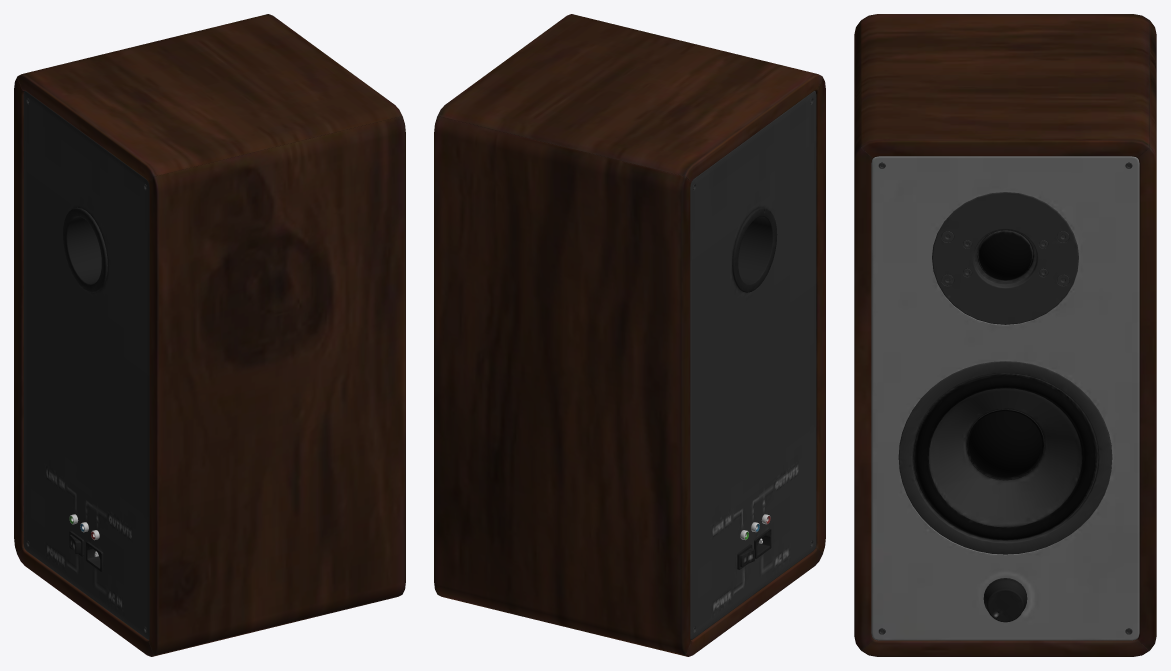
Rendered from caixas-madeira.glb.
3 renders of one model, left to right at view 1: azimuth 30°, elevation 25°; view 2: azimuth 150°, elevation 25°; view 3: azimuth 270°, elevation 25°, orthographic. The views are drawn at different scales.
Parts seen in each view (by area): view 1: MESH_Desktop_speaker_Material.008_0; view 2: MESH_Desktop_speaker_Material.008_0; view 3: MESH_Desktop_speaker_Material.008_0.
Part boxes in pixels (x1,y1,x2,y2): MESH_Desktop_speaker_Material.008_0: [14, 14, 405, 656]; MESH_Desktop_speaker_Material.008_0: [434, 14, 825, 656]; MESH_Desktop_speaker_Material.008_0: [854, 14, 1156, 656].
Bounding box in the file's own units: 0.1841 × 0.3225 × 0.17.
1 material, 1 textured.
